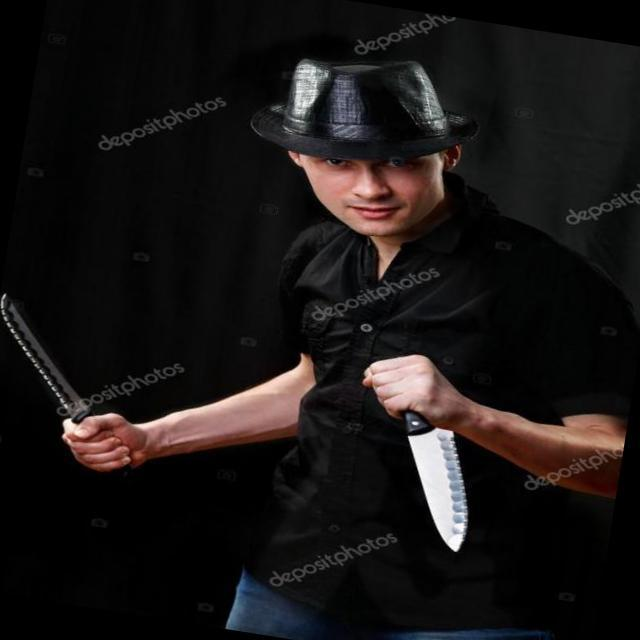Knife: (332, 340, 508, 562), (0, 285, 156, 476)
